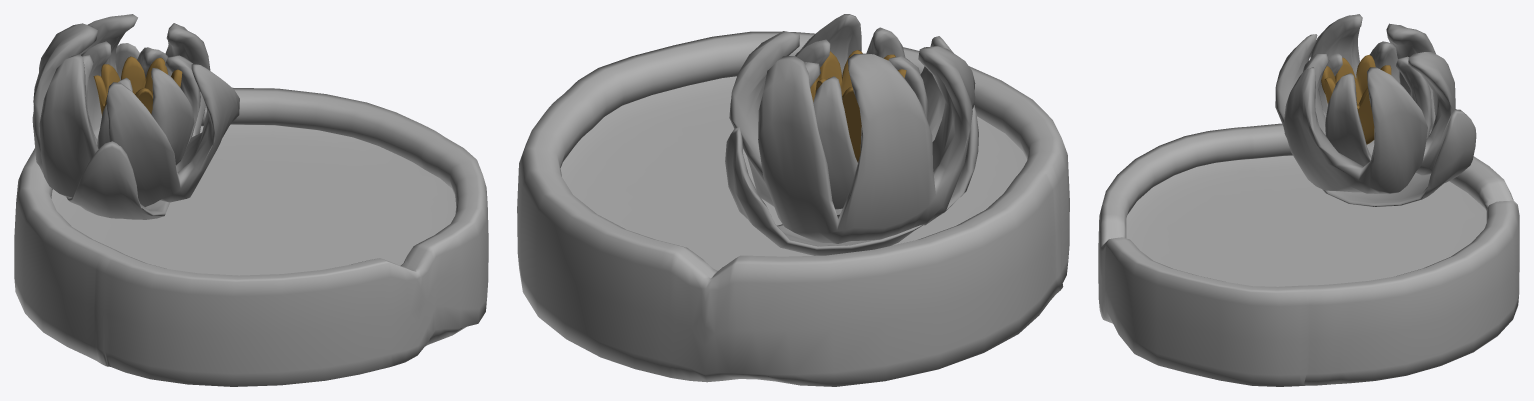
Rendered from Flower_Lilypad_04.fbx.
The picture shows the model from 3 angles, left to right: view 1: azimuth 30°, elevation 25°; view 2: azimuth 150°, elevation 25°; view 3: azimuth 270°, elevation 25°; orthographic projection. The views are drawn at different scales.
Parts seen in each view (by area): view 1: Flower_Lilypad_04; view 2: Flower_Lilypad_04; view 3: Flower_Lilypad_04.
Boxes of the visible parts, <box> form: Flower_Lilypad_04: <box>14,14,488,386</box>; Flower_Lilypad_04: <box>517,14,1069,386</box>; Flower_Lilypad_04: <box>1098,14,1519,386</box>.
Size of the model in its own units: 23.2 by 14.11 by 23.44.
